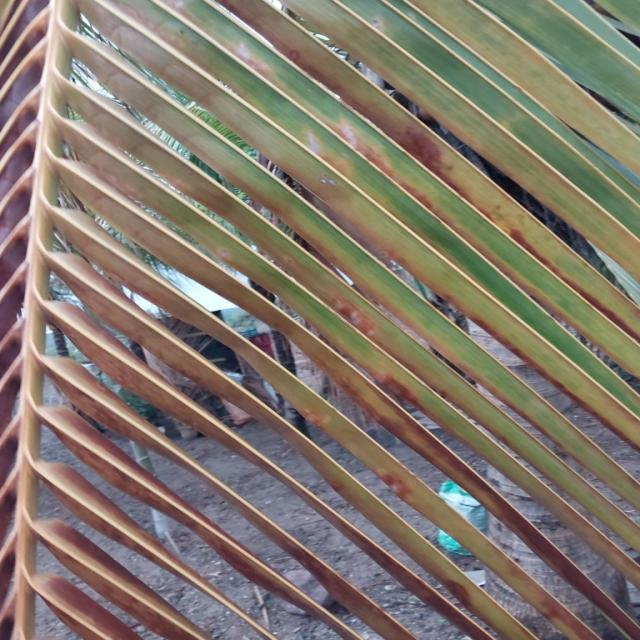gray leaf spot: (36, 97, 428, 599)
